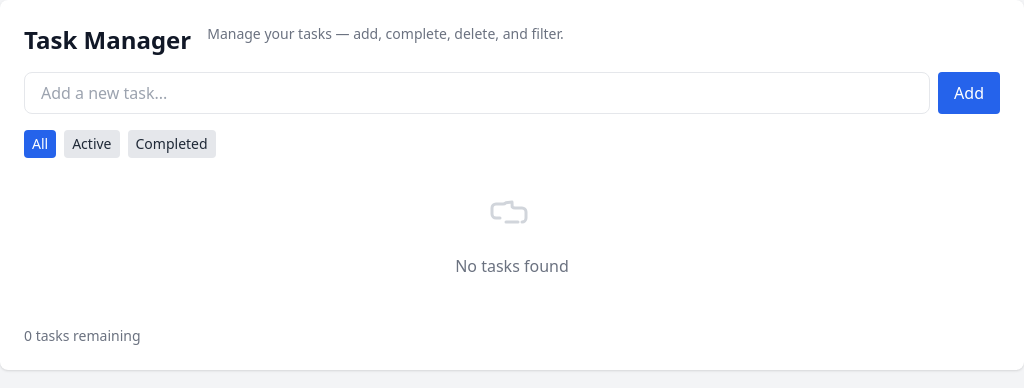
Test case: TaskManager component › adds a new task and displays it
In the field named "task text": coordinates (477, 93) [24,72,930,114], type "Write tests"
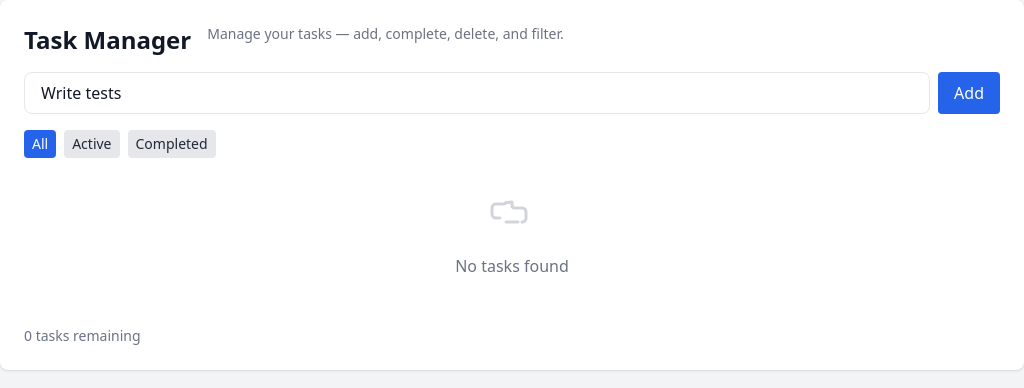
Click the button "Add": coordinates (969, 93) [938,72,1000,114]
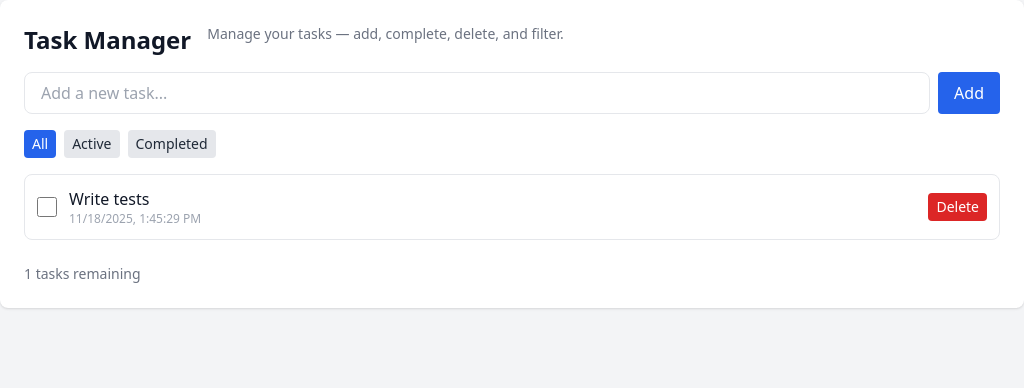
Check: the text "1 tasks remaining" is shown, box [24,264,141,283]
Check: the text "Write tests" is shown, box [69,188,149,210]
